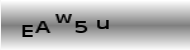5: (74, 19, 88, 34)
A: (34, 20, 53, 35)
E: (20, 24, 34, 38)
u: (96, 18, 111, 30)
w: (54, 13, 73, 24)
